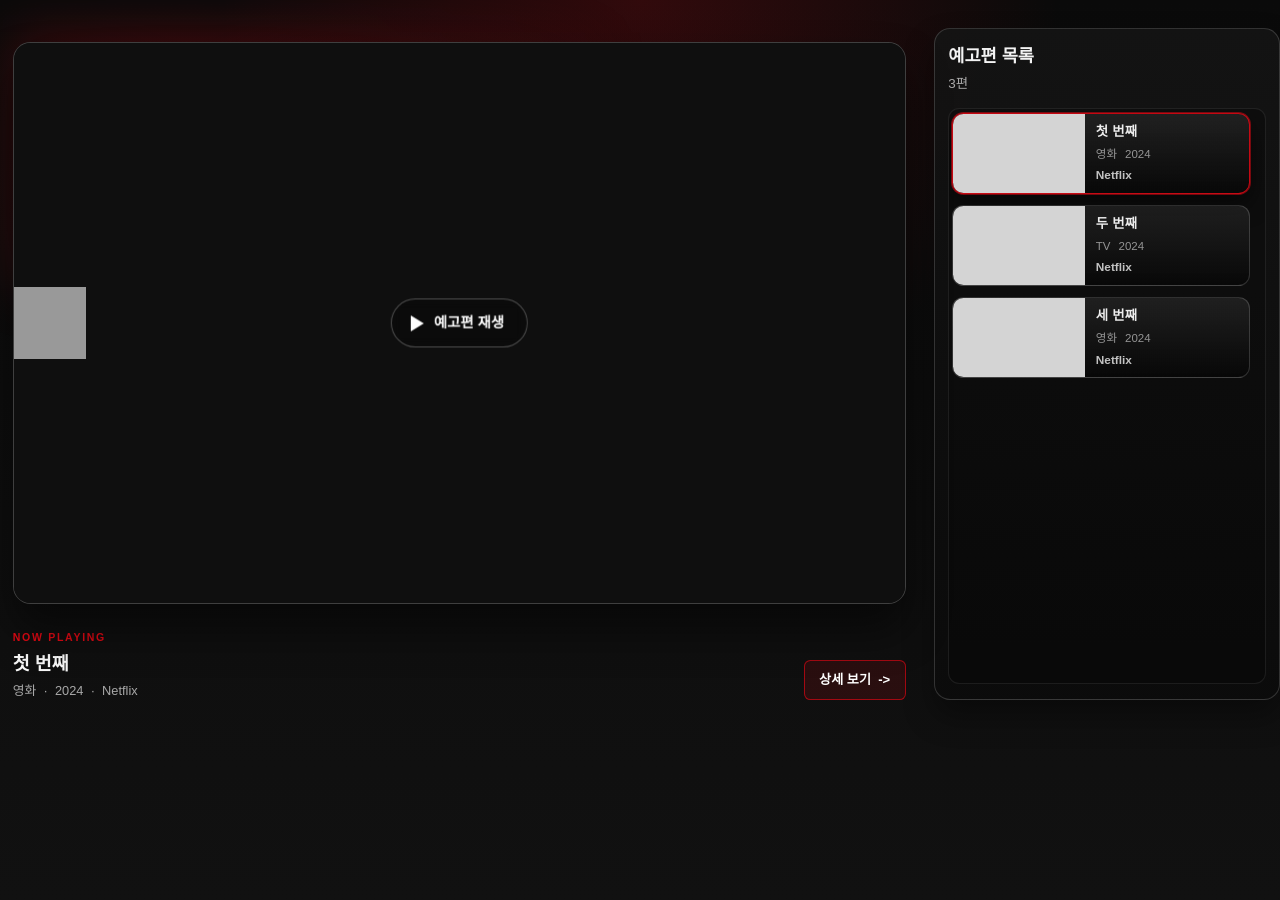
Test: TrailerShowcase › 재생 버튼을 누르면 YouTube 플레이어가 생성되고, 다른 항목을 고르면 loadVideoById로 전환된다
Click the button with aria-label "첫 번째 예고편 재생": (851, 323) [14, 43, 905, 602]
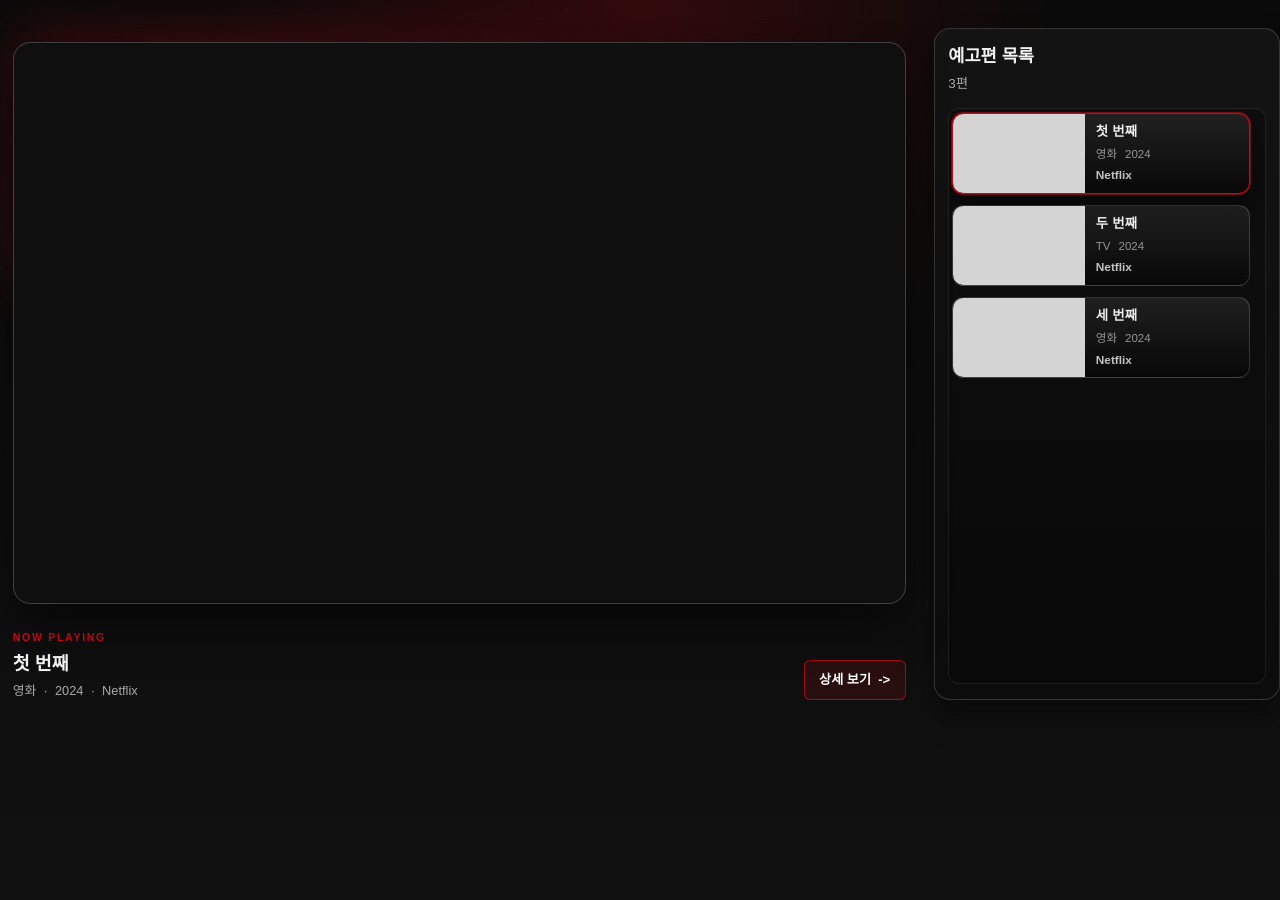
Click the option "세 번째 영화 2024 Netflix": (1101, 338) [952, 297, 1250, 378]
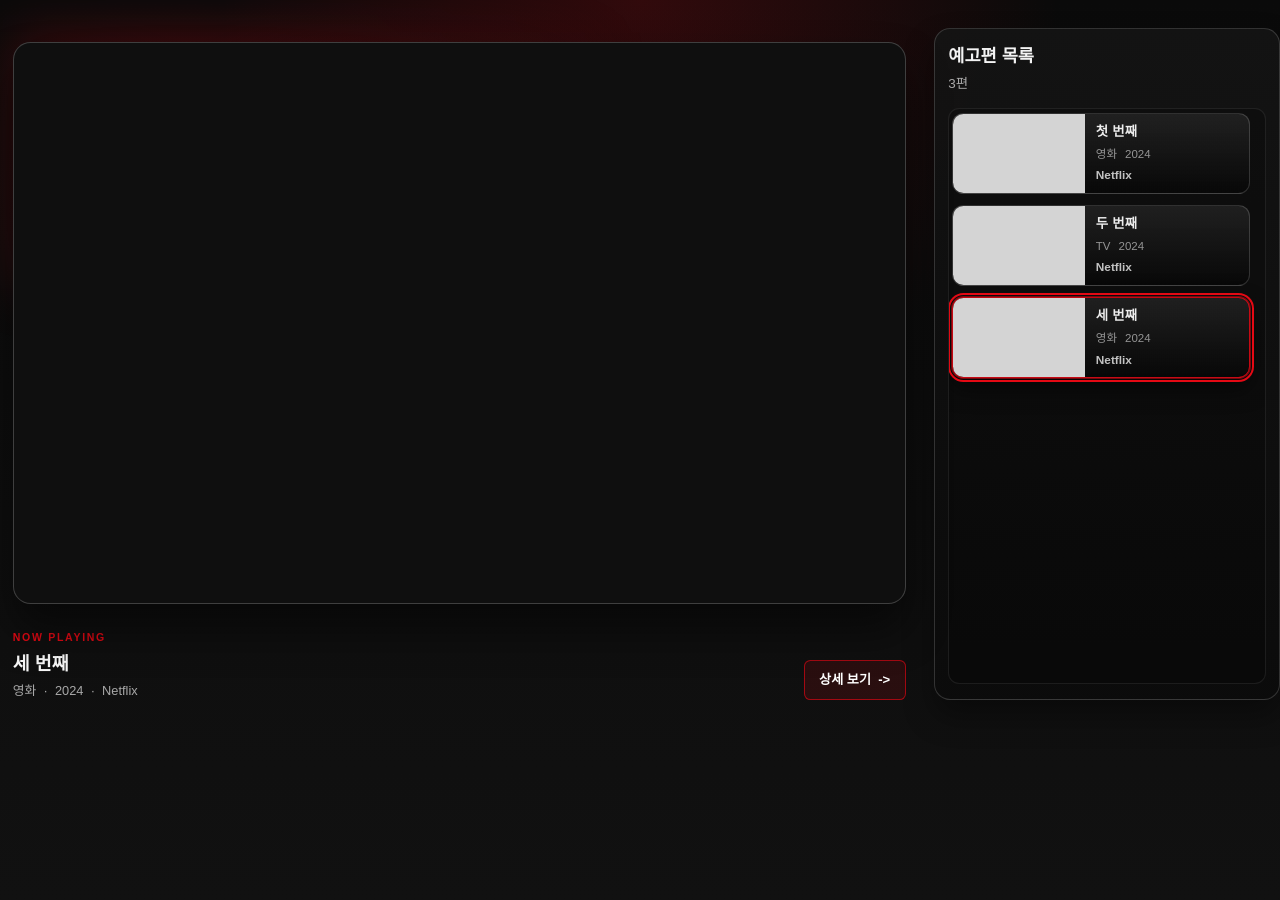
Now the heading "세 번째" is shown, box [13, 653, 69, 674]
